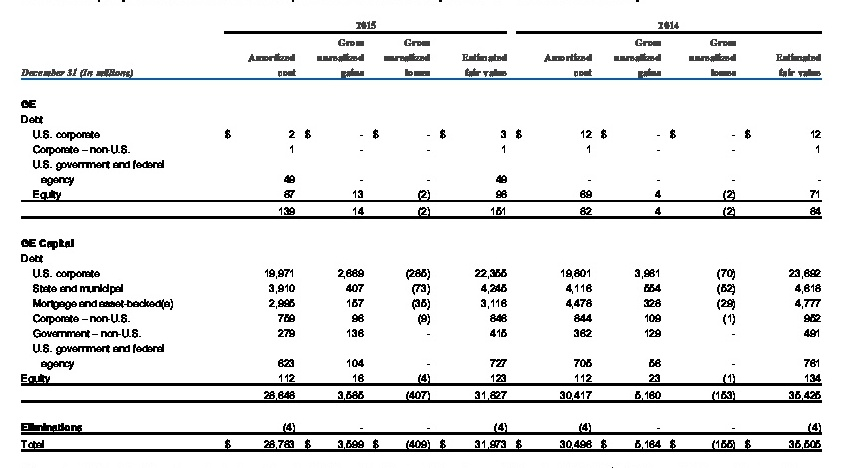table: (0, 0, 847, 468)
